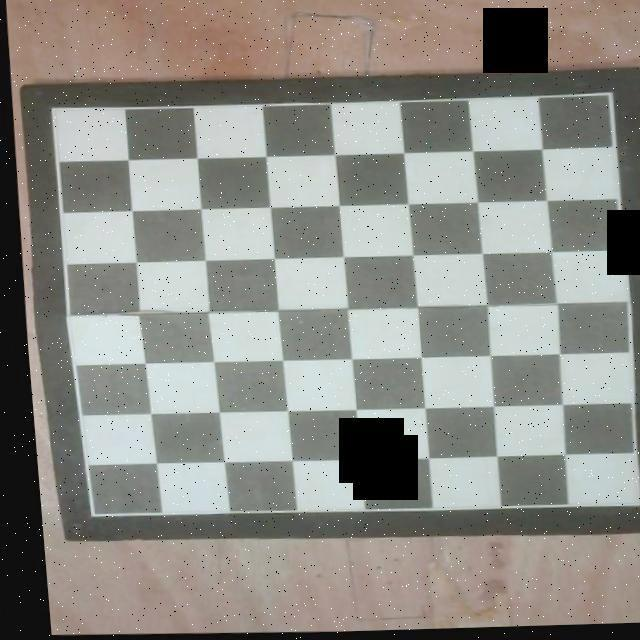chess-table-corners: (46, 105, 54, 112), (605, 93, 613, 100), (625, 504, 635, 509), (80, 512, 88, 518)
